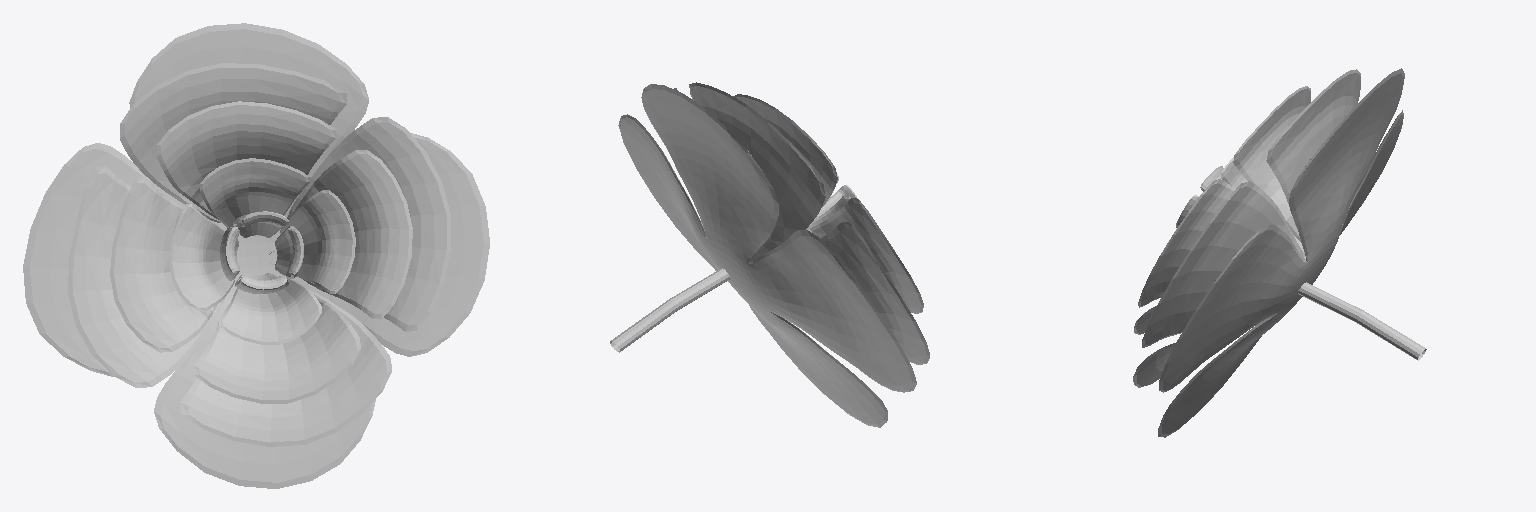
Rendered from flower.obj.
3 views of the same model, side by side, from view 1: azimuth 30°, elevation 25°; view 2: azimuth 150°, elevation 25°; view 3: azimuth 270°, elevation 25° (orthographic).
Visible parts, largest first — view 1: Flower_vase:flower10; view 2: Flower_vase:flower10; view 3: Flower_vase:flower10.
Part boxes in pixels (x1,y1,x2,y2): Flower_vase:flower10: (23, 23, 489, 488); Flower_vase:flower10: (610, 82, 929, 427); Flower_vase:flower10: (1133, 68, 1426, 437).
Size of the model in its own units: 115 by 111 by 78.2.